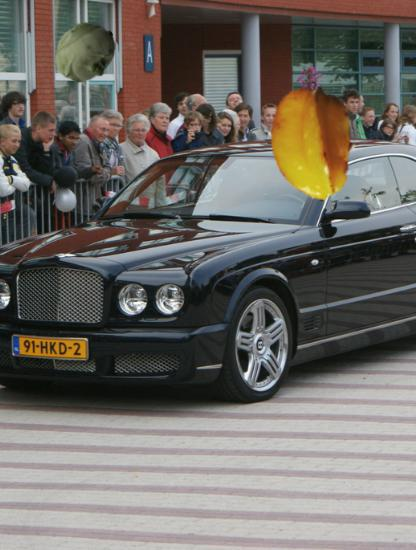Carambula: (256, 86, 372, 202)
Kohlrabi: (52, 19, 119, 86)
